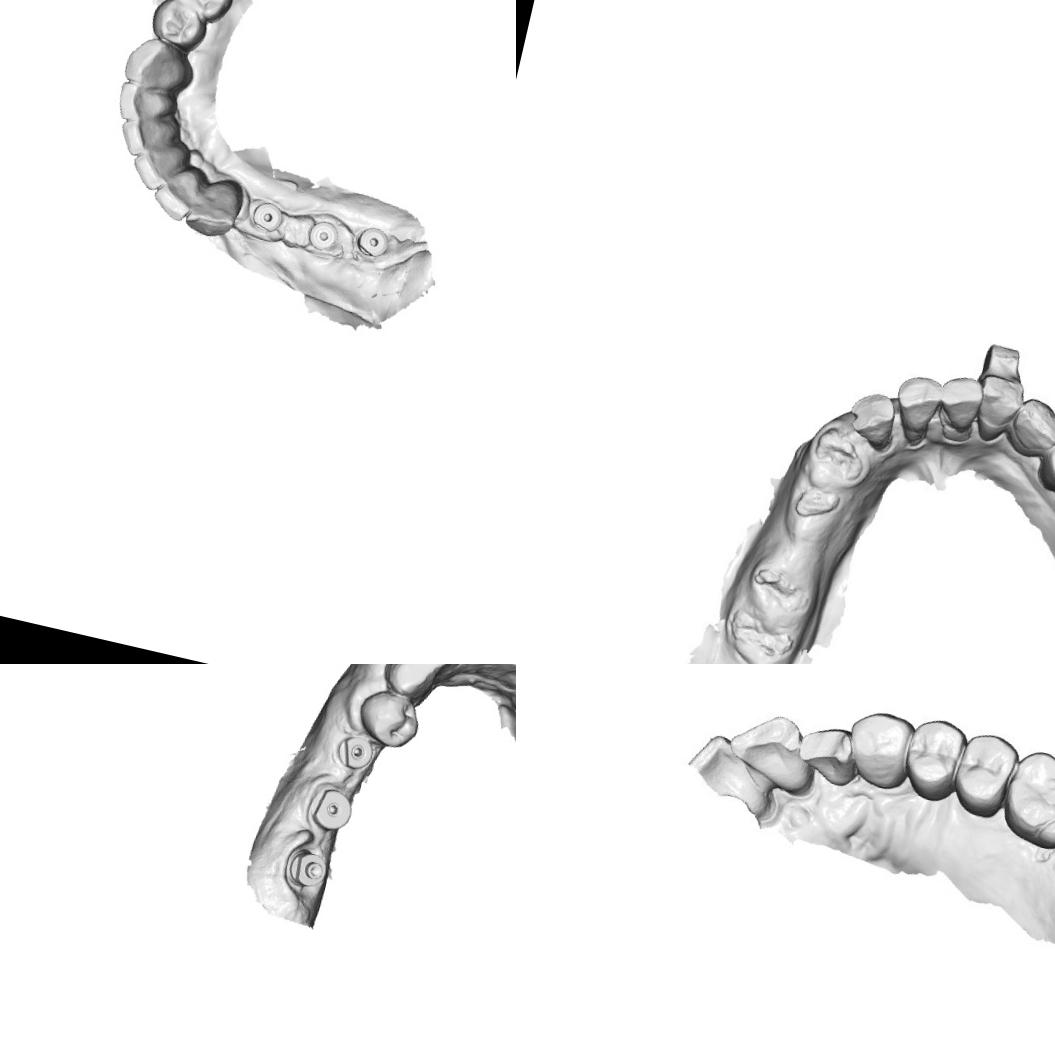canine: (843, 707, 913, 791), (120, 32, 197, 97), (182, 172, 247, 243), (1003, 394, 1055, 463), (383, 664, 439, 704)
implant: (280, 842, 332, 894), (308, 786, 358, 834), (332, 730, 377, 774), (352, 222, 393, 262), (303, 216, 342, 256), (248, 198, 287, 236)
incisor: (721, 705, 820, 796), (788, 717, 863, 788), (891, 374, 945, 447), (148, 158, 206, 225), (844, 390, 903, 454), (114, 78, 182, 132), (126, 137, 188, 196), (114, 109, 179, 165), (972, 376, 1023, 447), (938, 374, 985, 435), (486, 664, 516, 681)
molar: (990, 742, 1055, 858)
premolar: (944, 726, 1023, 823), (896, 714, 968, 806), (352, 686, 426, 752), (146, 0, 213, 53), (166, 0, 238, 25), (1033, 427, 1055, 500)
